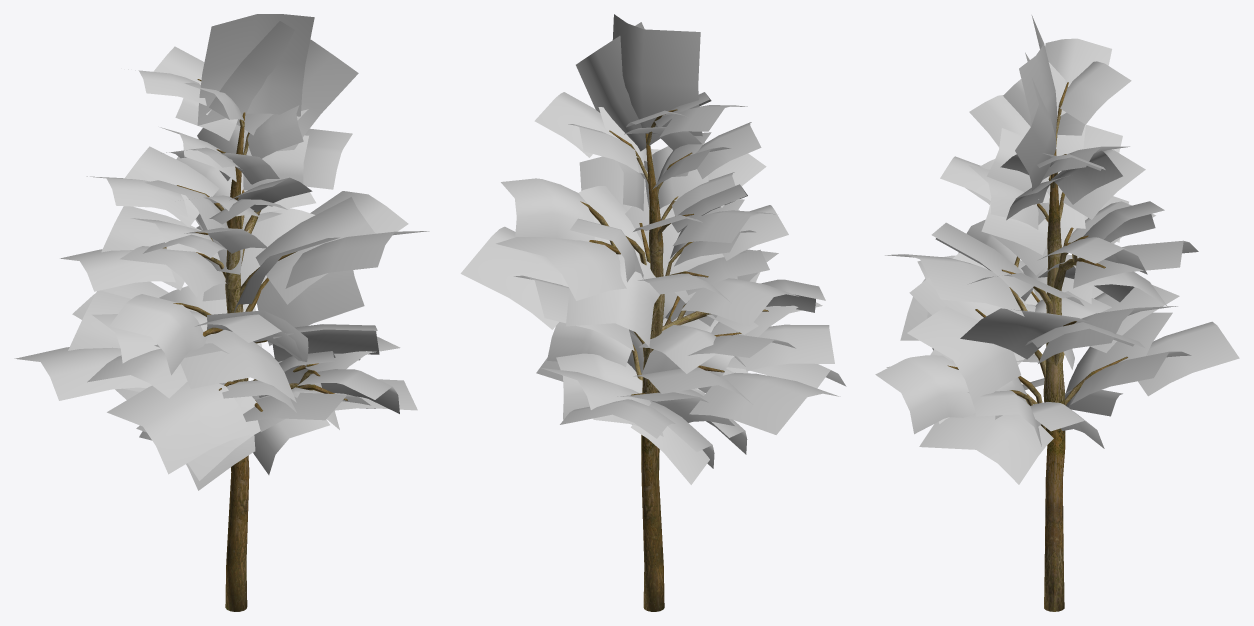
The model's file is abteeA.fbx.
3 views of the same model, side by side, from view 1: azimuth 30°, elevation 25°; view 2: azimuth 150°, elevation 25°; view 3: azimuth 270°, elevation 25° (orthographic). The views are drawn at different scales.
Parts seen in each view (by area): view 1: U3DMesh; view 2: U3DMesh; view 3: U3DMesh.
Boxes of the visible parts, x1,y1,x2,y2 form: U3DMesh: (14, 14, 429, 611); U3DMesh: (460, 14, 846, 611); U3DMesh: (875, 15, 1239, 611).
Bounding box in the file's own units: 239 × 392 × 225.
